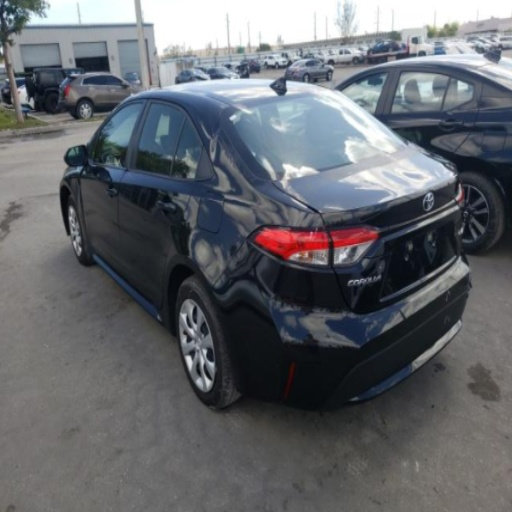dent: (208, 115, 221, 144)
scratch: (218, 105, 221, 121)
